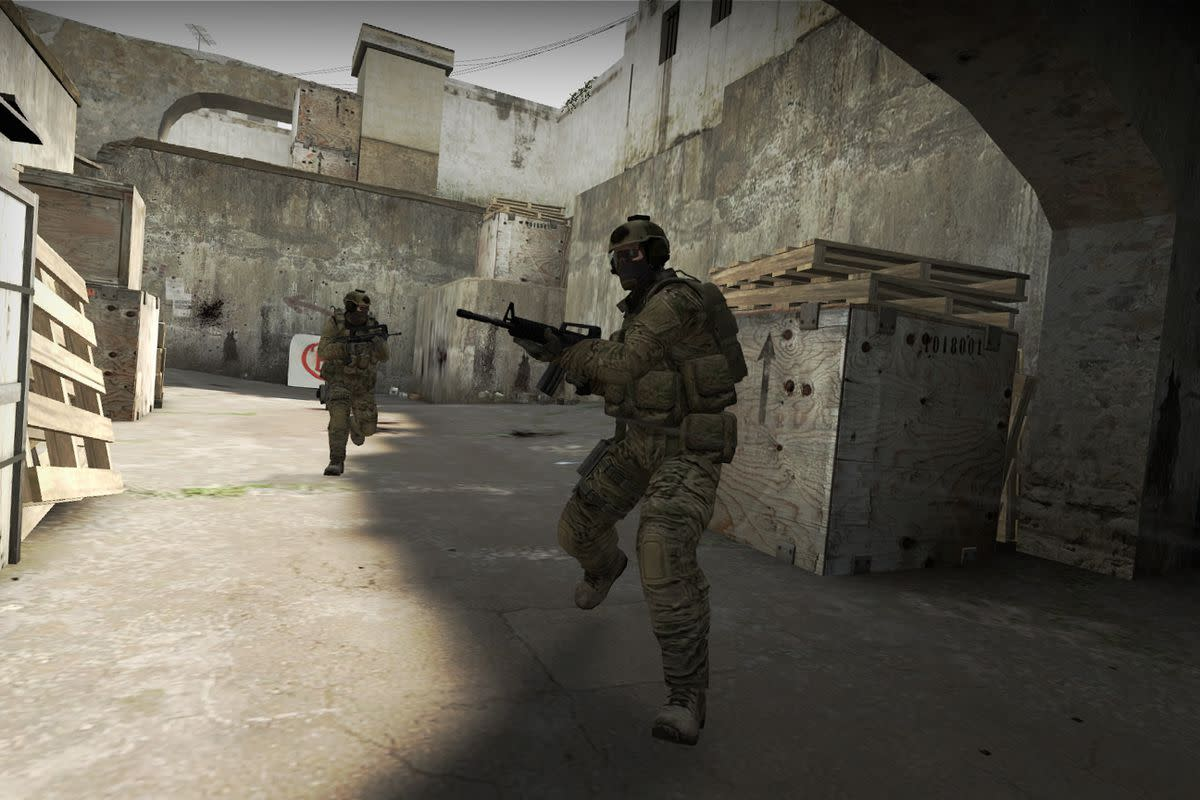c: (553, 207, 741, 745), (318, 287, 386, 479)
ch: (606, 212, 672, 292), (345, 288, 375, 322)
